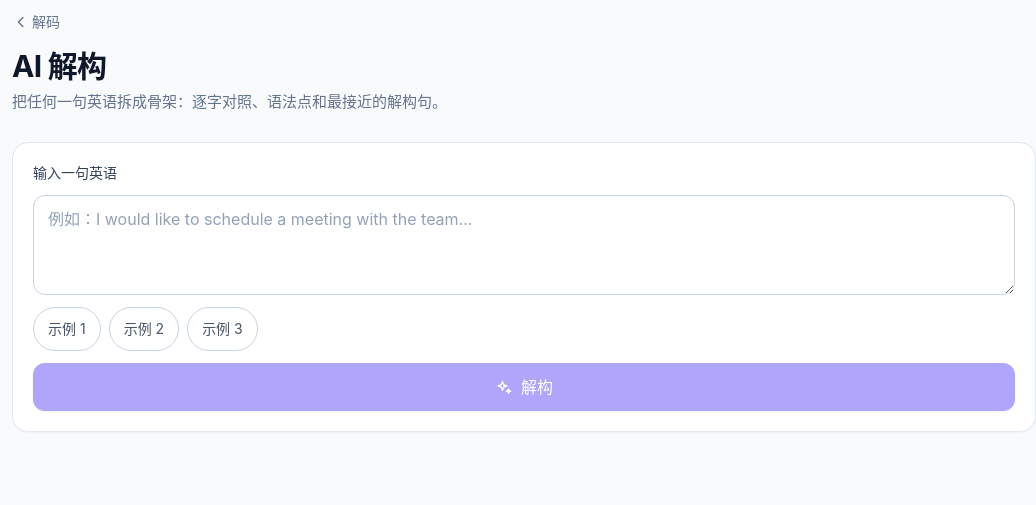
Scenario: AnalyzePage › shows the AI error message
The image size is (1036, 505).
Type "Hello there." into the text box labelled "输入一句英语" at (524, 245), box [33,195,1015,295]
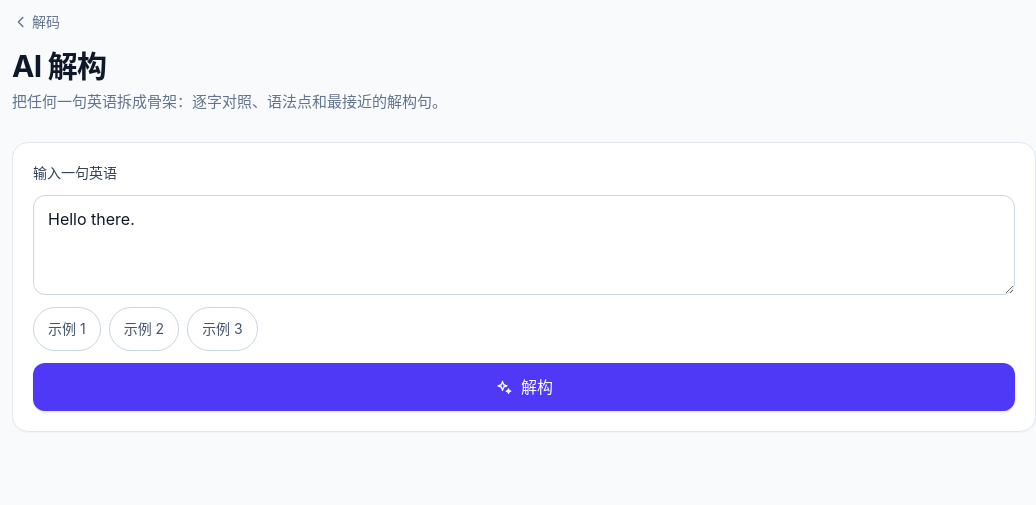
Click the button "解构" at (524, 387), box [33,363,1015,411]
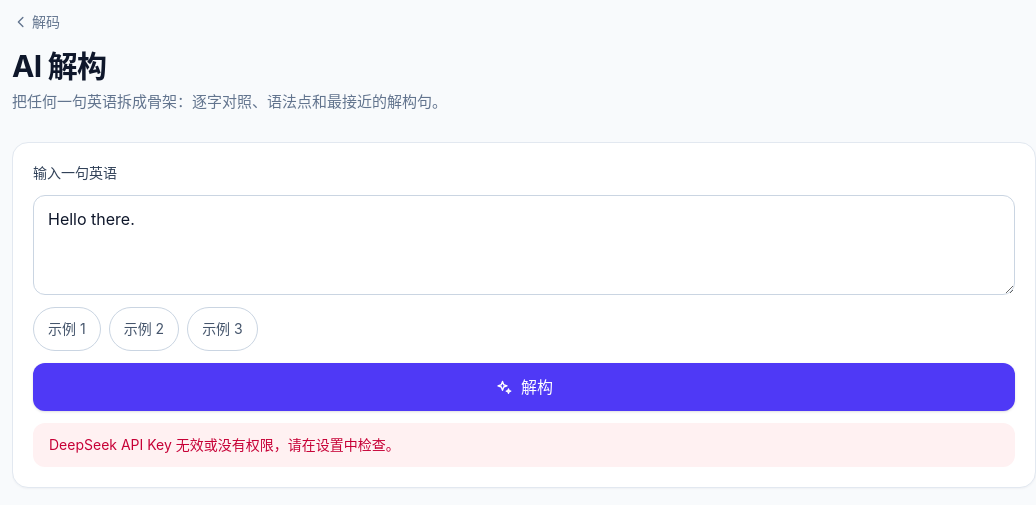
Now the message shows "API Key 无效", box [49,436,400,453]
